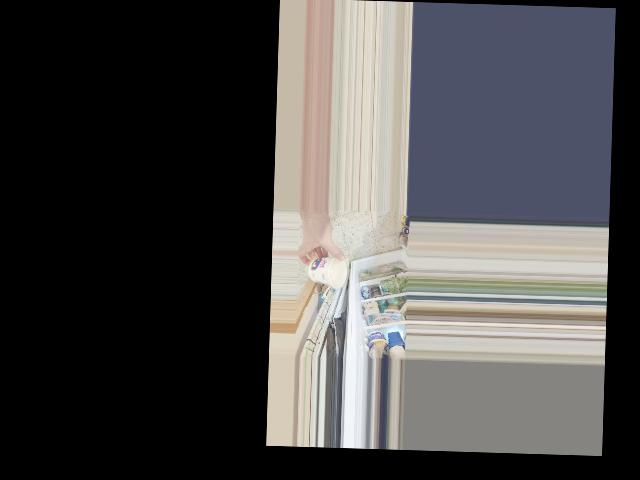cotage: (308, 254, 347, 286)
